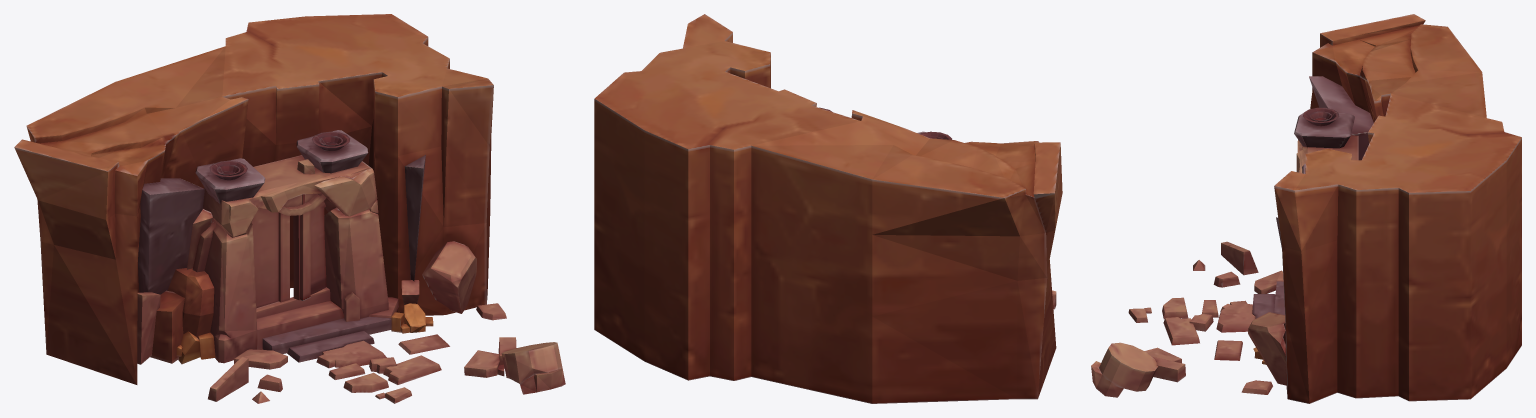
The model's file is shimen.FBX.
3 renders of one model, left to right at view 1: azimuth 30°, elevation 25°; view 2: azimuth 150°, elevation 25°; view 3: azimuth 270°, elevation 25°, orthographic. The views are drawn at different scales.
Parts seen in each view (by area): view 1: shimen; view 2: shimen; view 3: shimen.
Part boxes in pixels (<box>): shimen: <box>14,14,565,403</box>; shimen: <box>594,14,1062,403</box>; shimen: <box>1091,14,1521,403</box>.
Size of the model in its own units: 16.29 by 8.54 by 15.28.
